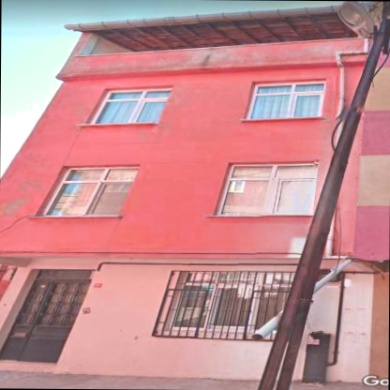door: (0, 280, 91, 362)
